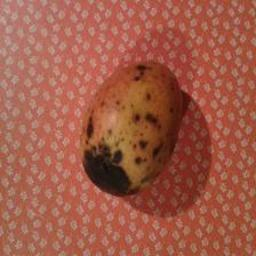Mango Semirotten: (70, 45, 198, 195)
